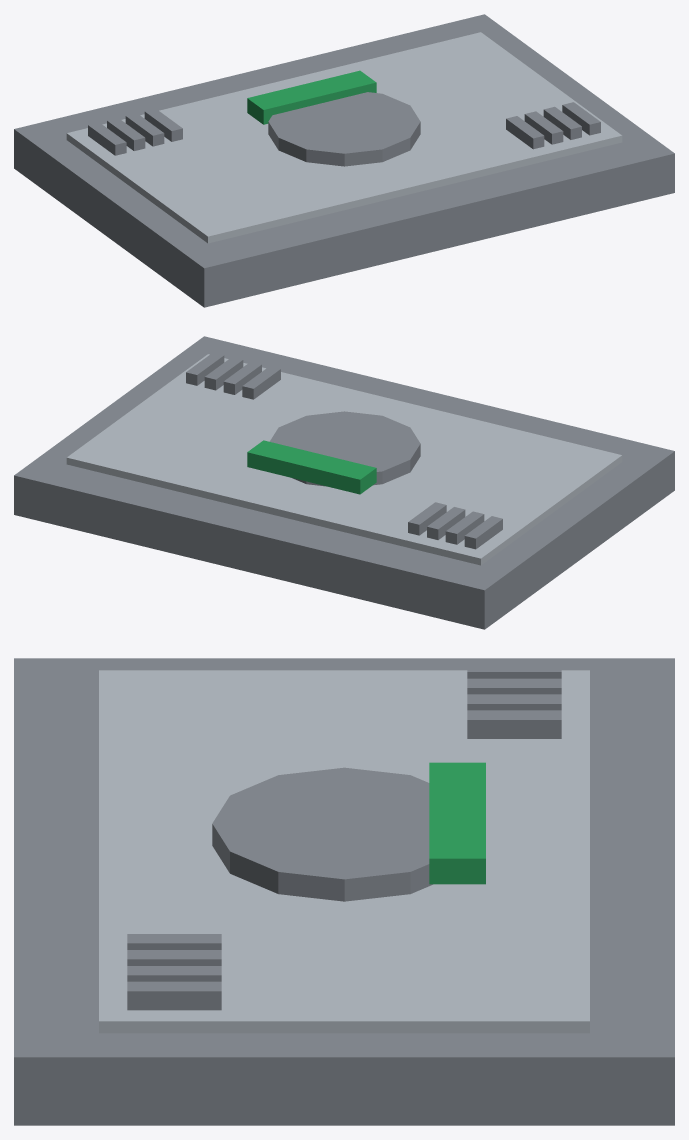
File: bills_plate.glb
3 renders of one model, top to bottom at view 1: azimuth 30°, elevation 25°; view 2: azimuth 150°, elevation 25°; view 3: azimuth 270°, elevation 25°, orthographic. The views are drawn at different scales.
Parts seen in each view (by area): view 1: plate_plate_steel, relief_plate_relief, face_plate_steel, number_plate_steel, face_plate_visor; view 2: plate_plate_steel, relief_plate_relief, face_plate_steel, number_plate_steel, face_plate_visor; view 3: relief_plate_relief, plate_plate_steel, face_plate_steel, number_plate_steel, face_plate_visor.
Boxes of the visible parts, x1,y1,x2,y2 form: plate_plate_steel: (14, 14, 674, 307); relief_plate_relief: (66, 32, 622, 243); face_plate_steel: (268, 92, 420, 166); number_plate_steel: (88, 102, 600, 155); face_plate_visor: (247, 70, 376, 124); plate_plate_steel: (14, 336, 674, 629); relief_plate_relief: (66, 354, 622, 565); face_plate_steel: (269, 411, 420, 486); number_plate_steel: (186, 352, 502, 549); face_plate_visor: (247, 440, 376, 494); relief_plate_relief: (99, 670, 589, 1033); plate_plate_steel: (14, 658, 674, 1125); face_plate_steel: (212, 767, 432, 901); number_plate_steel: (127, 662, 561, 1010); face_plate_visor: (429, 762, 485, 884).
Bounding box in the file's own units: 0.5 × 0.0675 × 0.35.
